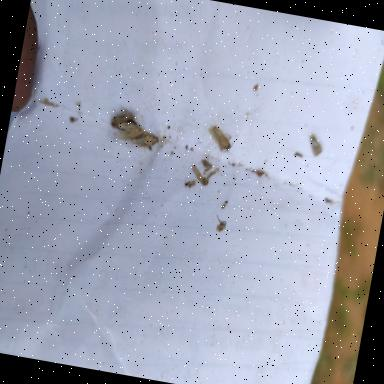pbw: (118, 130, 161, 152), (208, 125, 237, 156), (109, 110, 135, 131), (116, 120, 144, 136)
